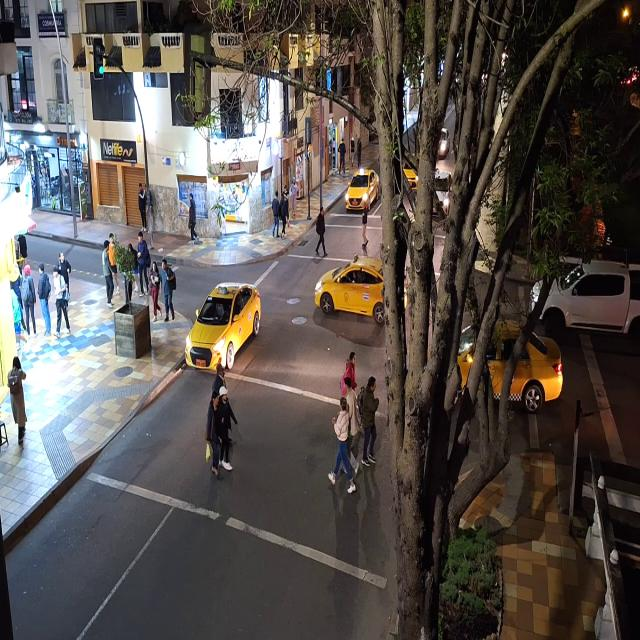CMT: (529, 261, 639, 331)
SED: (188, 282, 255, 365), (319, 261, 385, 316), (346, 169, 377, 209)
